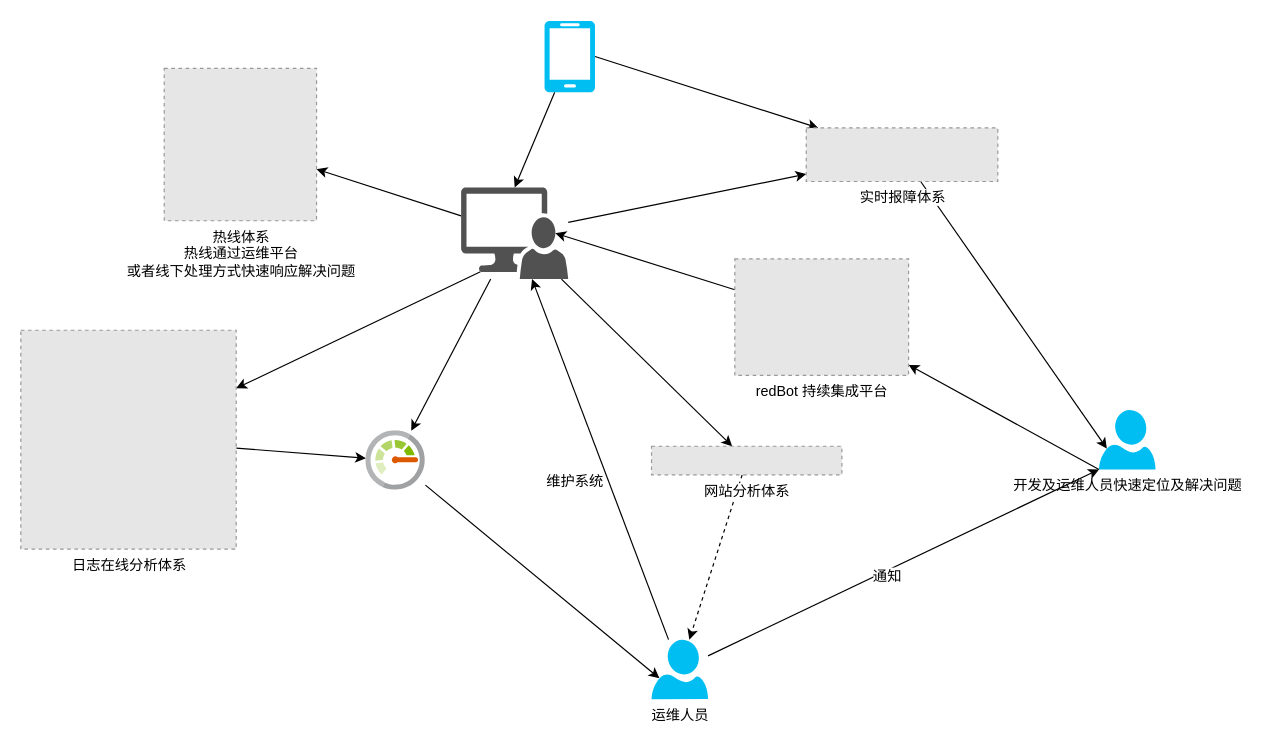
The diagram is 1263 pixels wide and 744 high, and some of its shapes have lost their labels. Grey dashed boxes stand in for pictures. Each missing label, with the centre of its shape:
"tripwise 系统后端" goes at (514,232).
"差旅管家" goes at (569,56).
"系统级别监控 应用级别监控系统" goes at (395,460).
